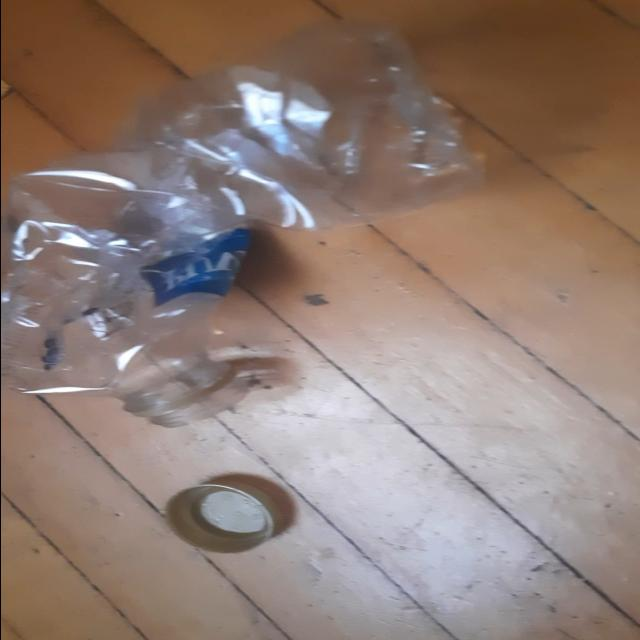Plastic: (2, 21, 486, 427)
